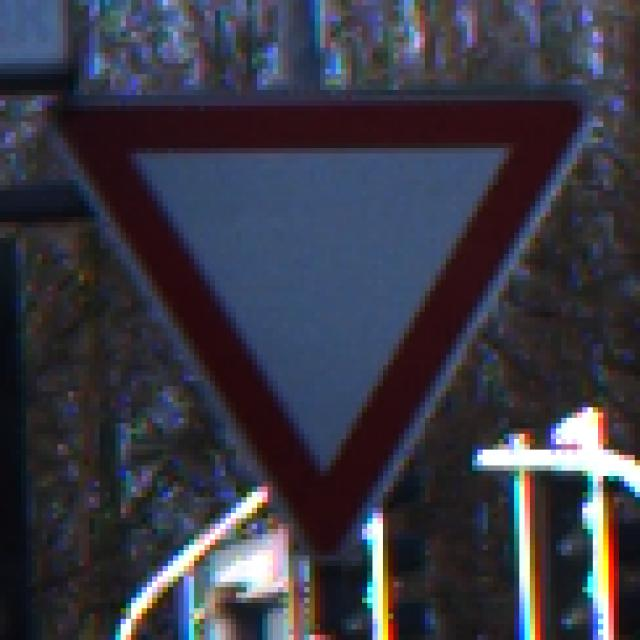Give Way: (59, 54, 589, 588)
